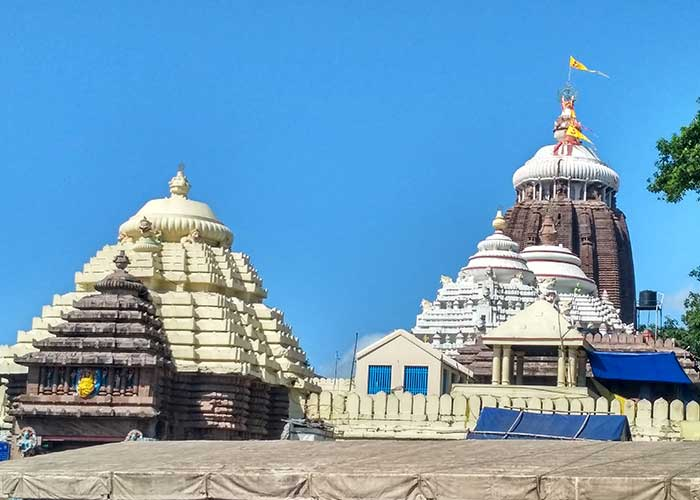Temple: (425, 59, 668, 412), (37, 168, 323, 433)
